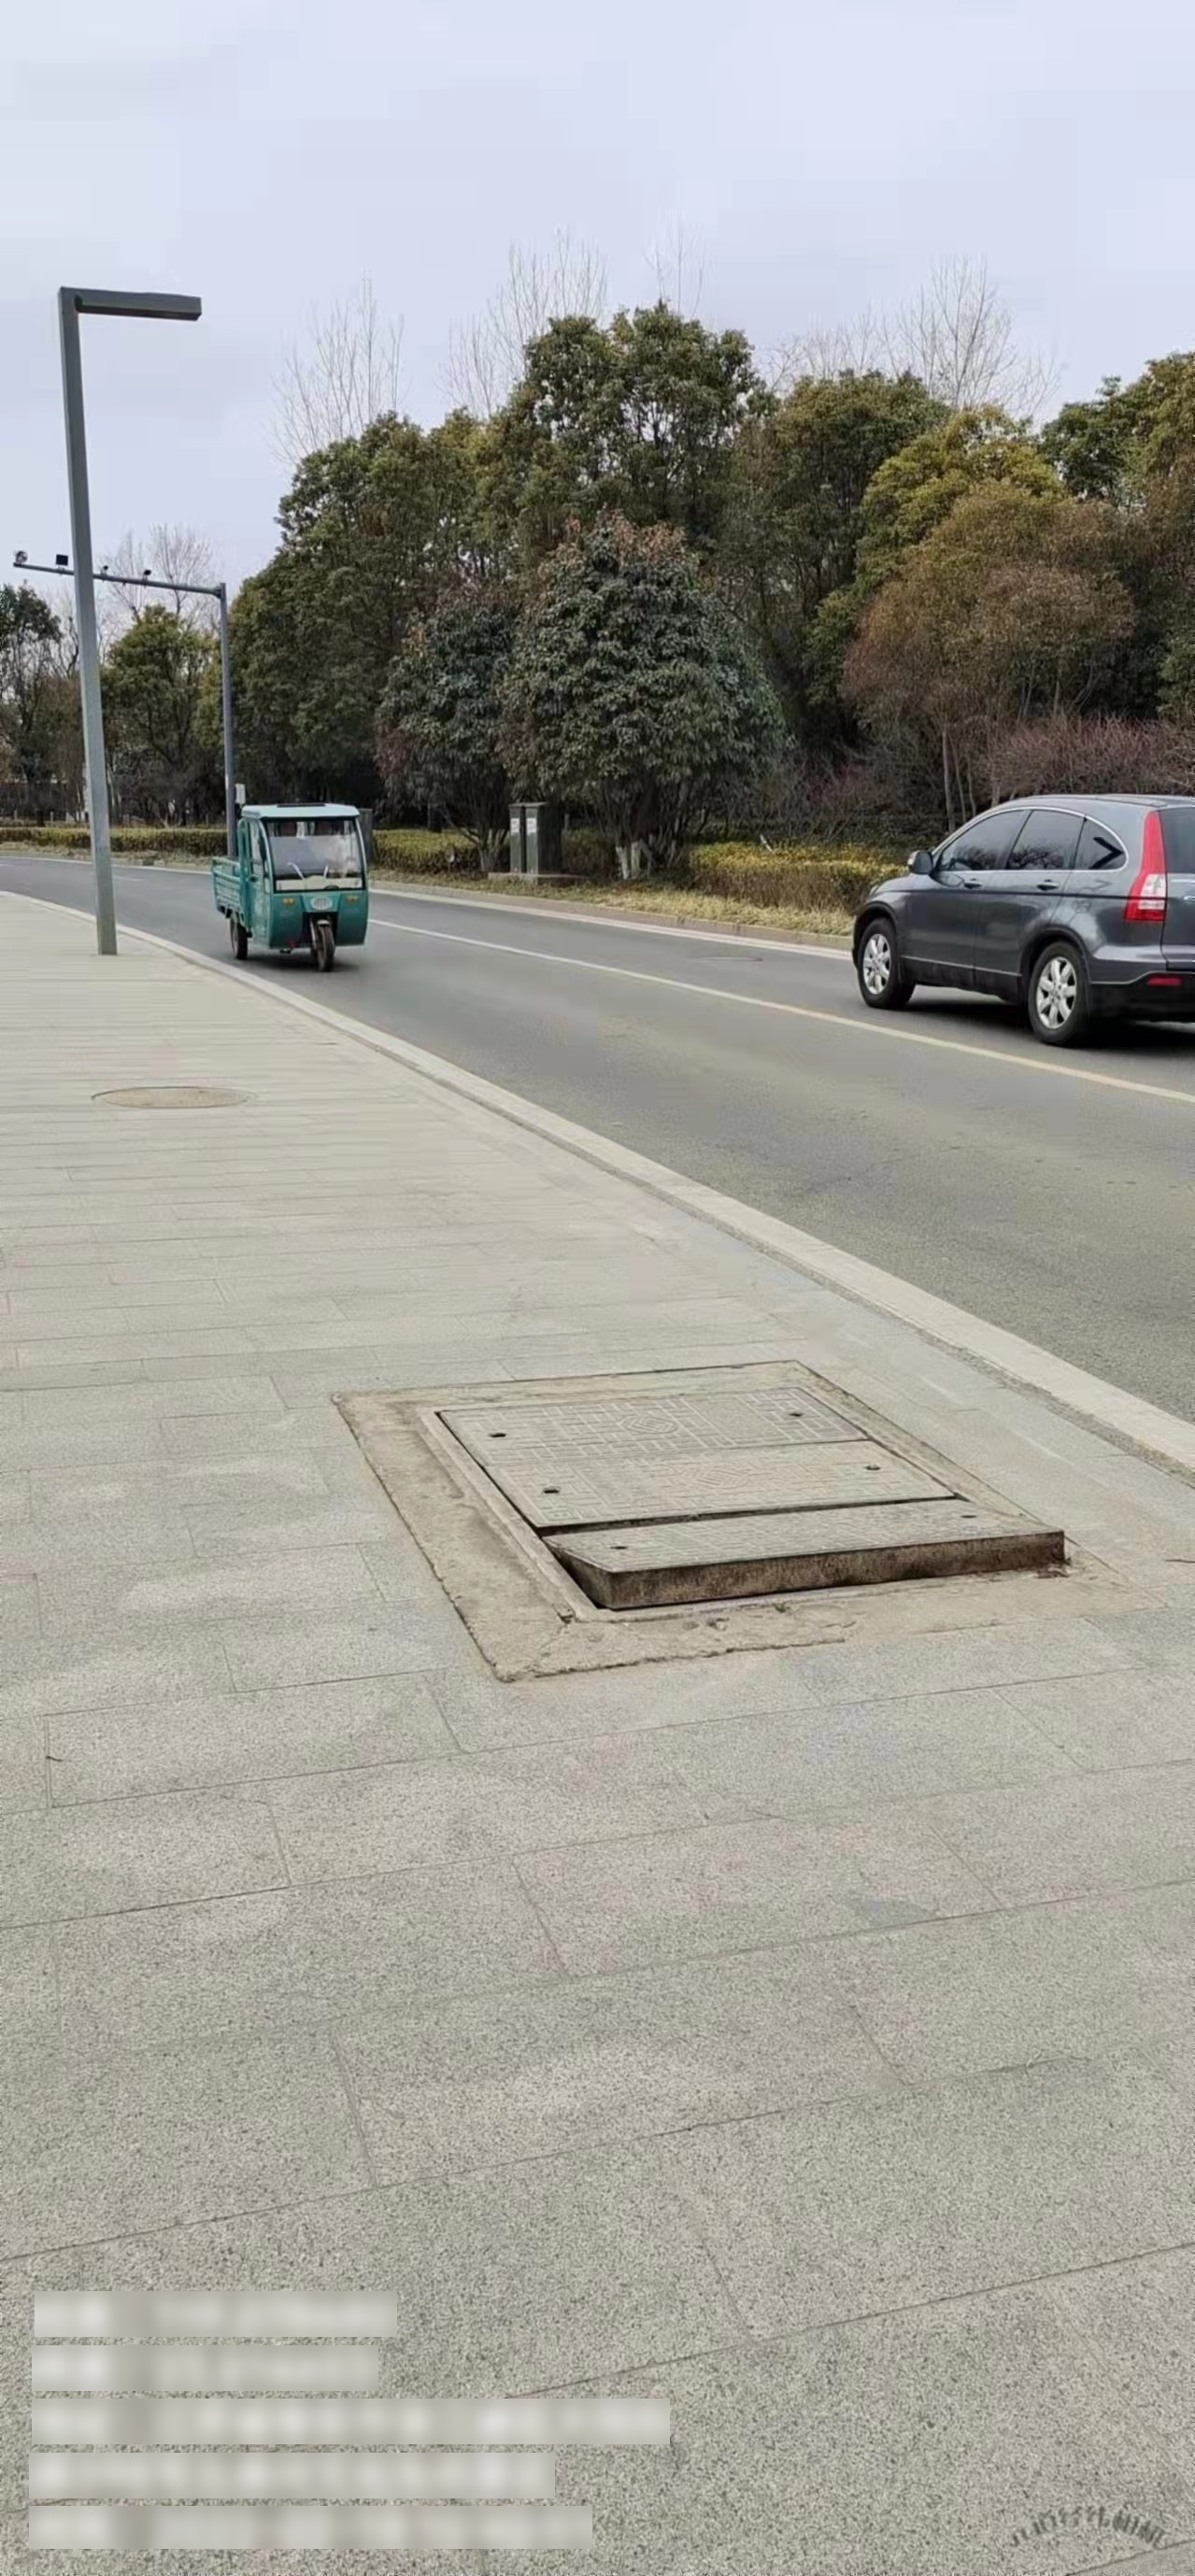uncovered: (398, 1362, 1075, 1631)
